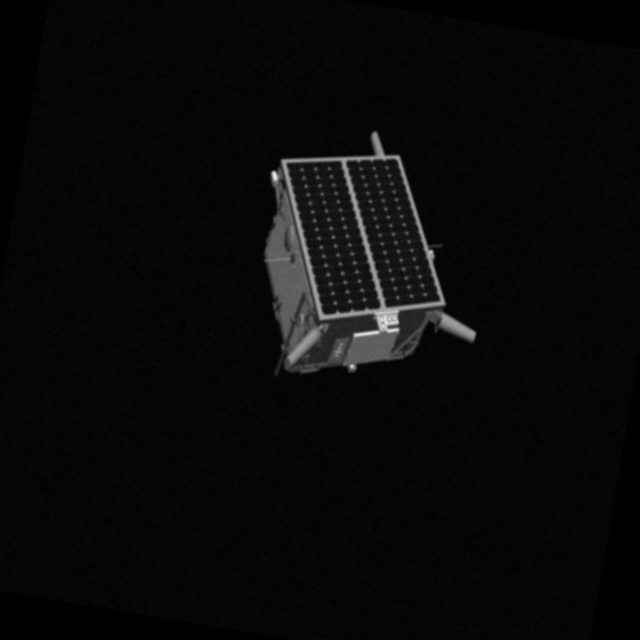satellite: (232, 106, 515, 404)
